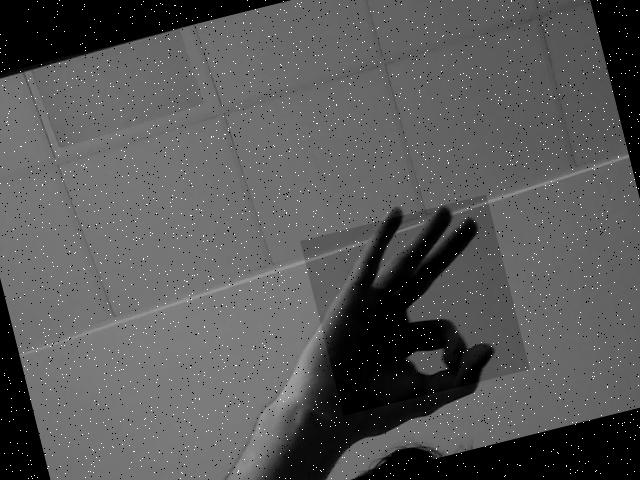OK: (300, 194, 530, 416)
